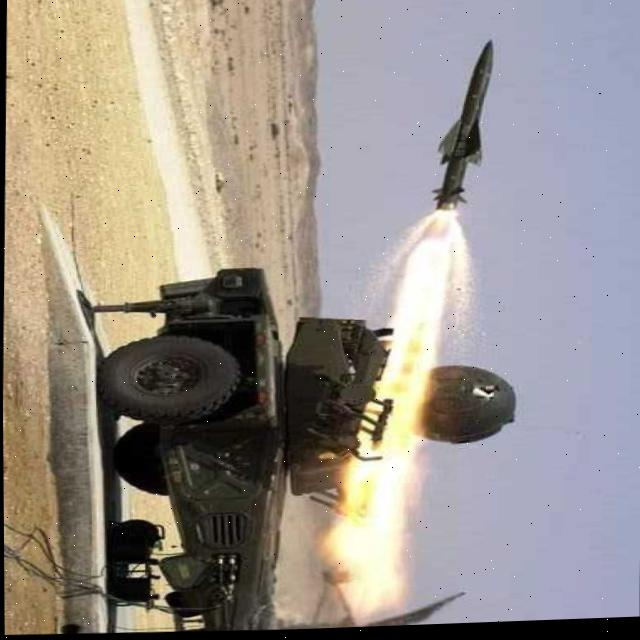missile: (410, 40, 500, 220)
